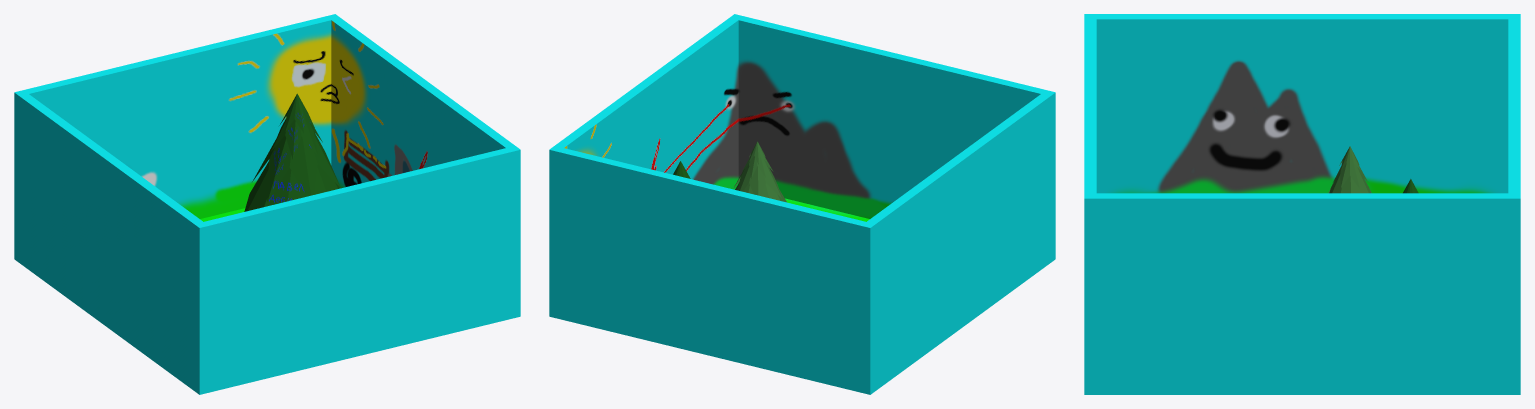
3 views of the same model, side by side, from view 1: azimuth 30°, elevation 25°; view 2: azimuth 150°, elevation 25°; view 3: azimuth 270°, elevation 25° (orthographic). The views are drawn at different scales.
Parts seen in each view (by area): view 1: Plane, Tree.001; view 2: Plane, Tree.003; view 3: Plane, Tree.002.
Part boxes in pixels (<box>): Plane: <box>14,14,520,394</box>; Tree.001: <box>244,93,340,211</box>; Plane: <box>549,14,1055,394</box>; Tree.003: <box>733,141,786,202</box>; Plane: <box>1084,14,1520,394</box>; Tree.002: <box>1328,146,1371,193</box>.
Size of the model in its own units: 65.52 by 32.63 by 65.52.
9 materials, 3 textured.
